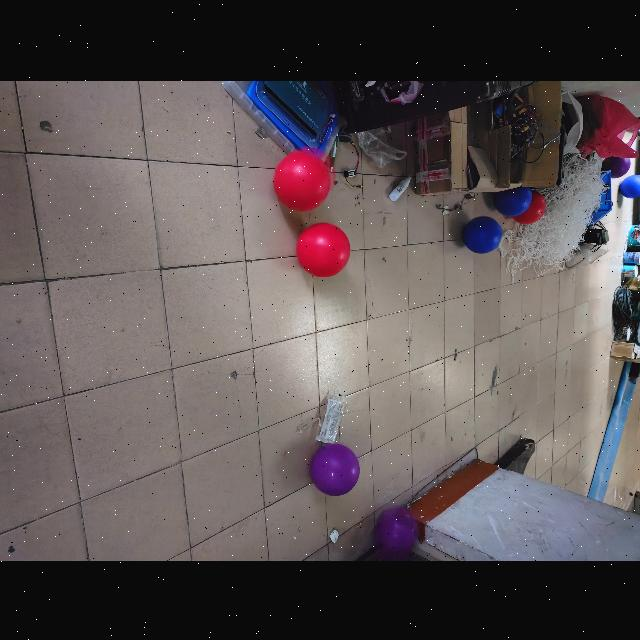B: (462, 216, 506, 254), (492, 180, 532, 216), (620, 175, 640, 198)
P: (370, 506, 428, 560), (310, 440, 362, 496)
R: (269, 146, 333, 210), (294, 221, 351, 277), (511, 188, 545, 224)
